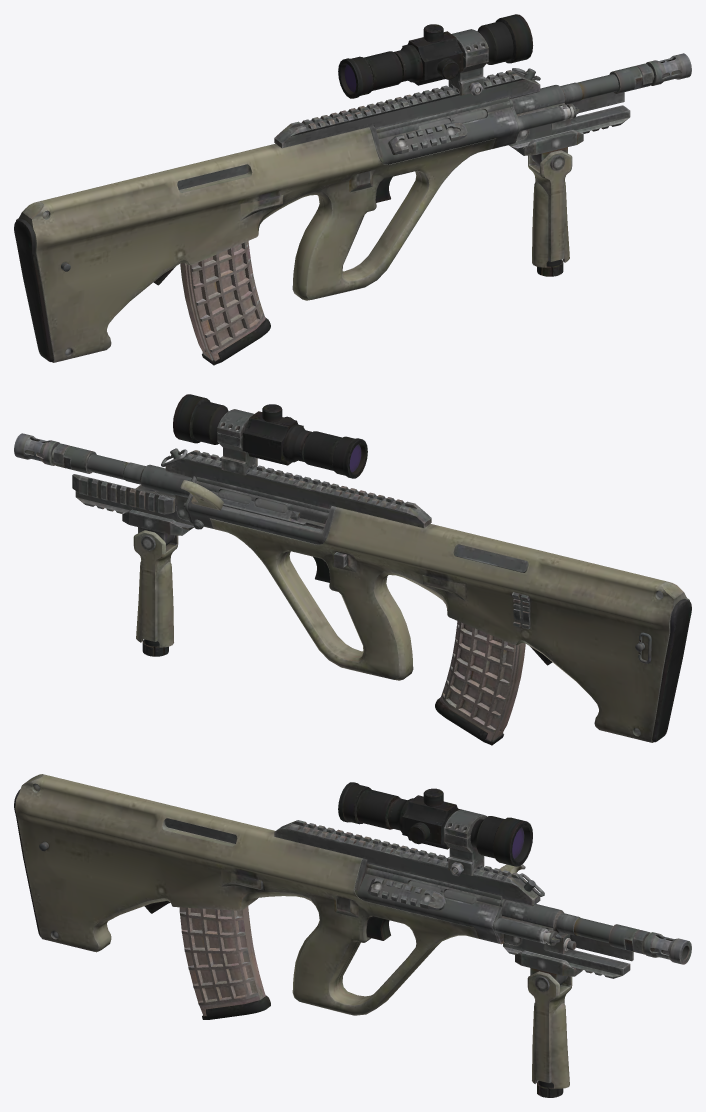
Rendered from gun-aug.glb.
3 renders of one model, top to bottom at view 1: azimuth 30°, elevation 25°; view 2: azimuth 150°, elevation 25°; view 3: azimuth 330°, elevation 25°, orthographic.
Parts seen in each view (by area): view 1: Object023_01 - Default_0; view 2: Object023_01 - Default_0; view 3: Object023_01 - Default_0.
Boxes of the visible parts, x1,y1,x2,y2 form: Object023_01 - Default_0: (14,14,691,365); Object023_01 - Default_0: (14,394,691,745); Object023_01 - Default_0: (14,774,691,1097).
Size of the model in its own units: 78.38 by 31.47 by 8.77.
Materials: 2 (2 with a texture image).
